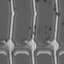dust: (48, 27, 52, 31), (27, 25, 31, 29), (55, 12, 59, 16), (44, 25, 47, 28), (45, 37, 48, 40), (48, 35, 51, 38), (53, 7, 55, 11), (35, 0, 39, 2), (43, 0, 47, 2), (44, 31, 47, 33)
